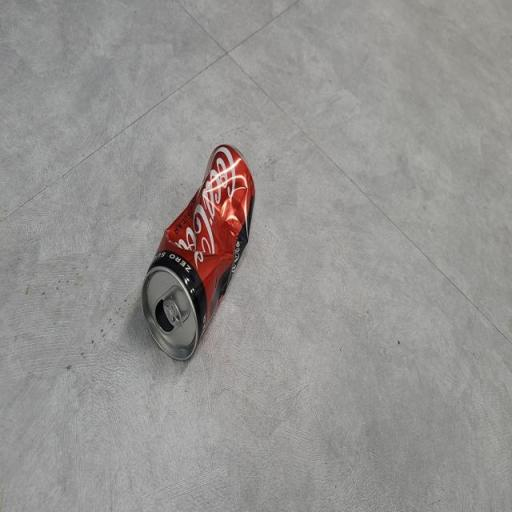metal: (129, 128, 277, 382)
